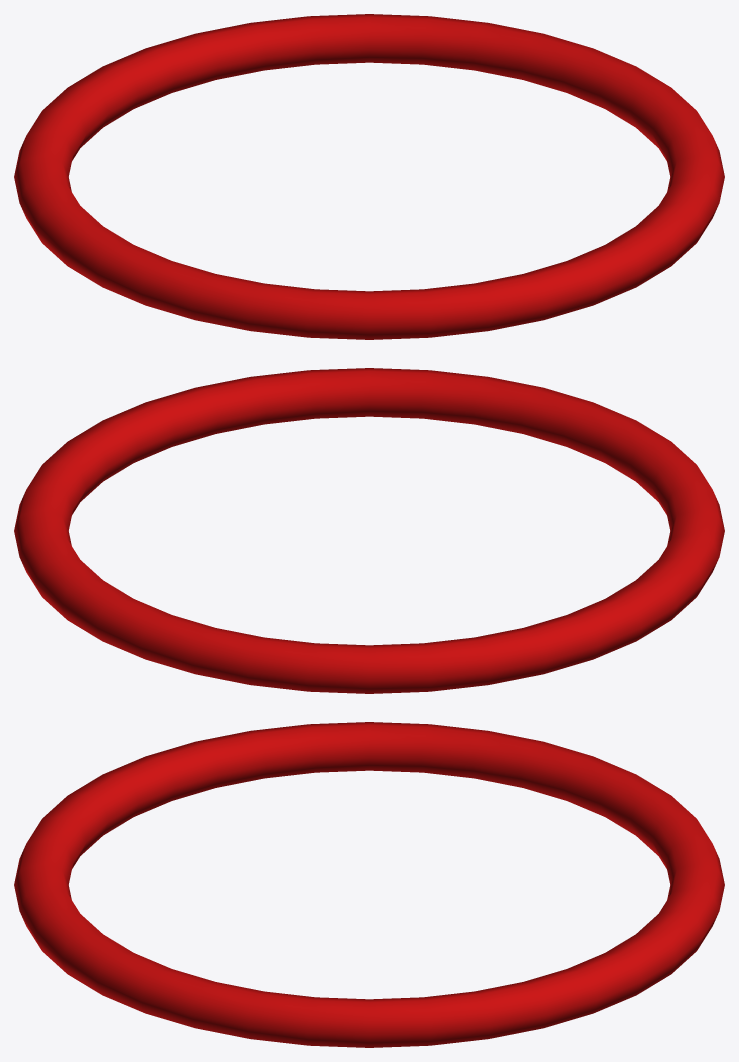
File: hoop_blue.FBX
The picture shows the model from 3 angles, top to bottom: view 1: azimuth 30°, elevation 25°; view 2: azimuth 150°, elevation 25°; view 3: azimuth 270°, elevation 25°; orthographic projection.
Visible parts, largest first — view 1: Hoop_red; view 2: Hoop_red; view 3: Hoop_red.
Boxes of the visible parts, x1,y1,x2,y2 form: Hoop_red: (14,14,724,339); Hoop_red: (14,368,724,693); Hoop_red: (14,722,724,1047).
Size of the model in its own units: 24.79 by 1.61 by 24.8.
